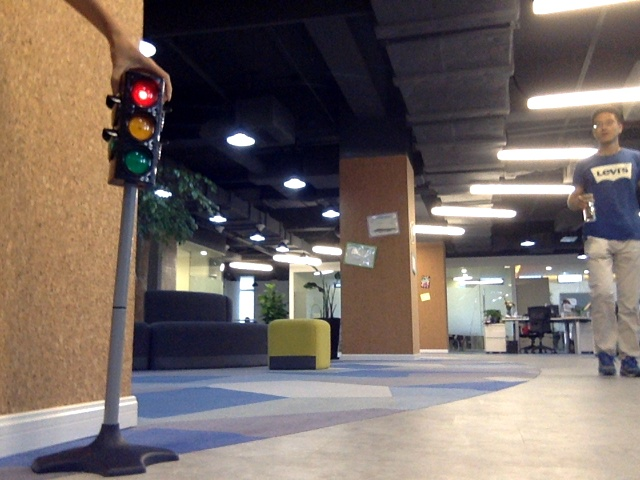red: (121, 77, 157, 171)
